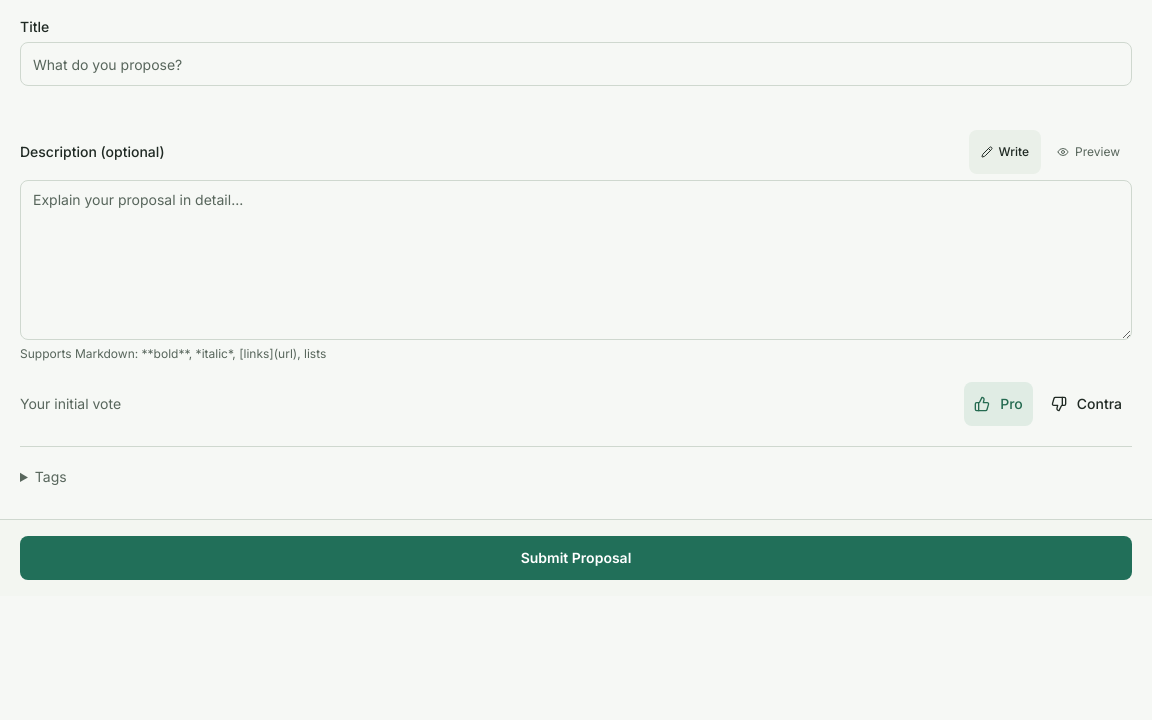
Test case: ProposalFormFields › should validate the required idea before submitting
Click the button "Submit Proposal" at (576, 558), box top-left (20, 536), bottom-right (1132, 580)
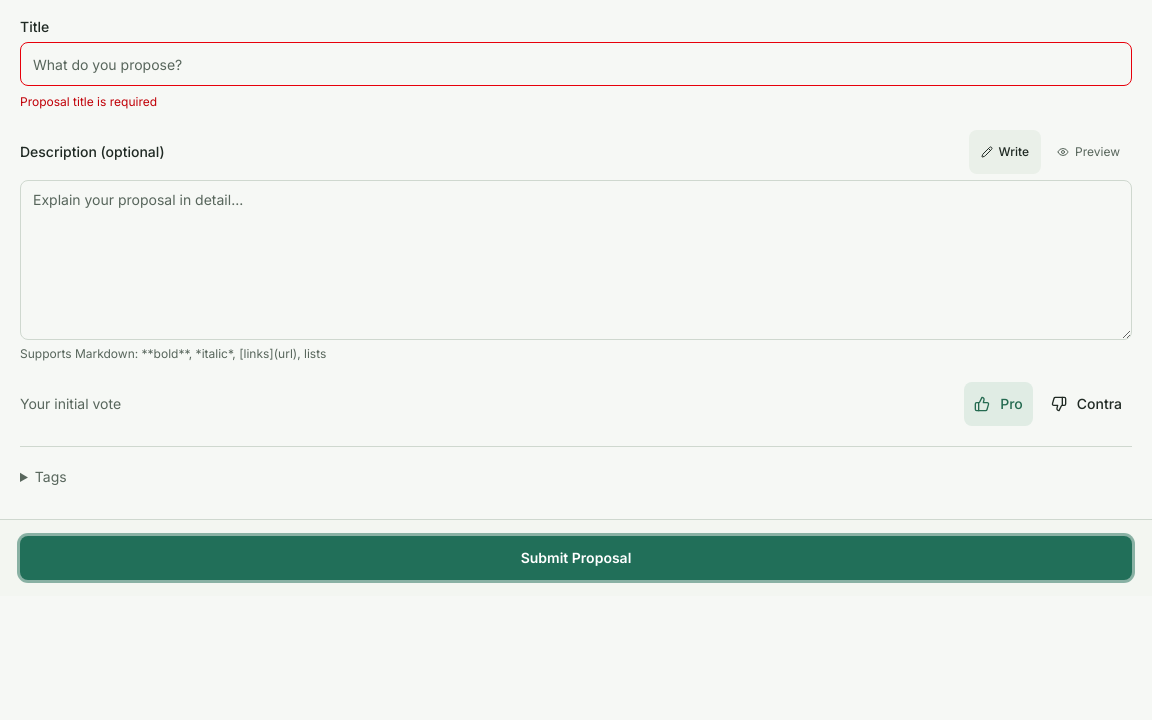
Expected: the text "Proposal title is required" is shown, top-left (20, 94), bottom-right (157, 109)
Type "Idea" into the field labelled "Title" at (576, 64), box top-left (20, 42), bottom-right (1132, 86)
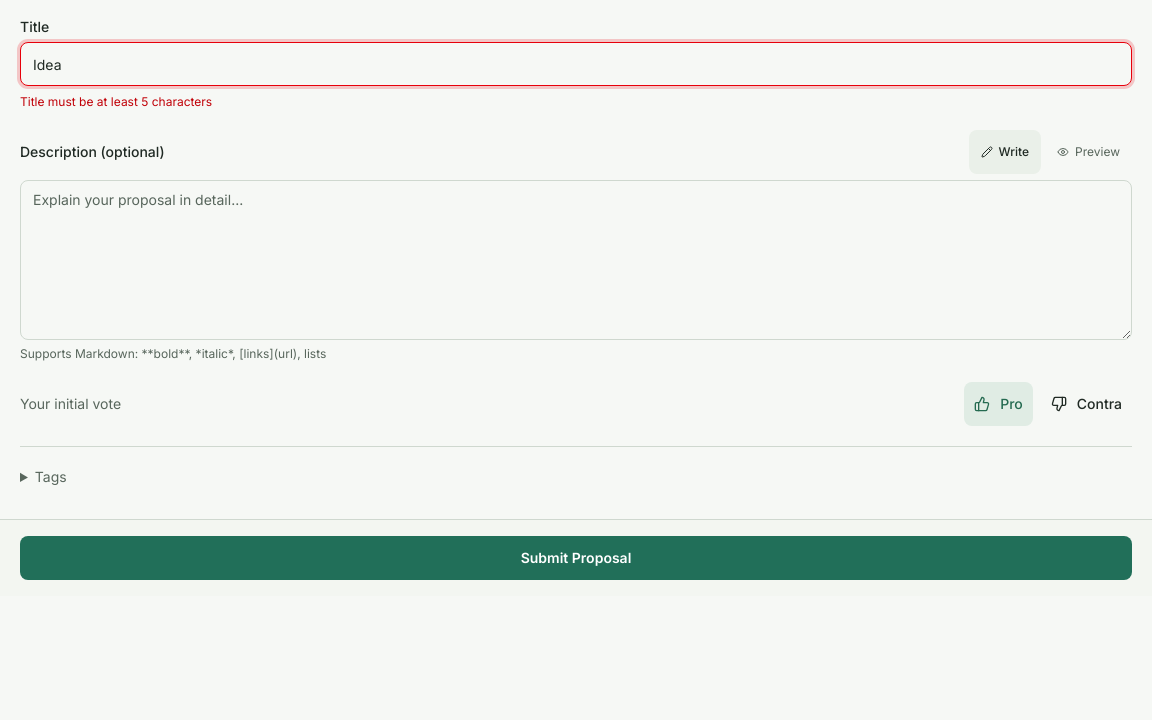
Expected: the text "Title must be at least 5 characters" is shown, top-left (20, 94), bottom-right (212, 109)
